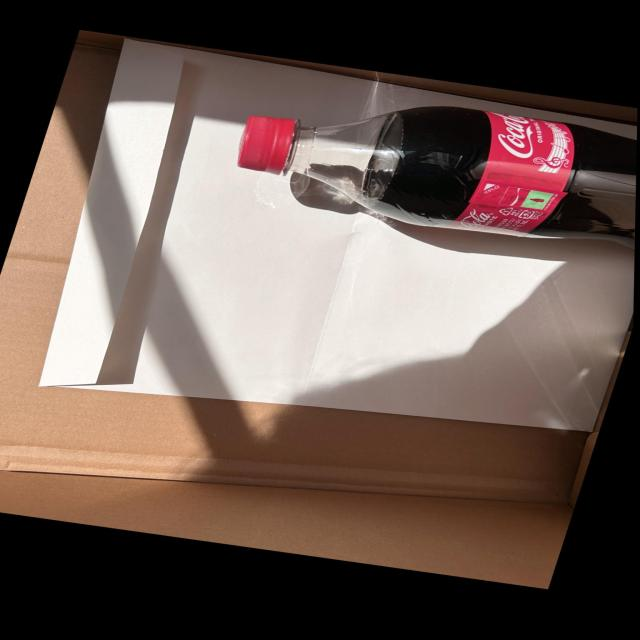high: (238, 106, 635, 242)
